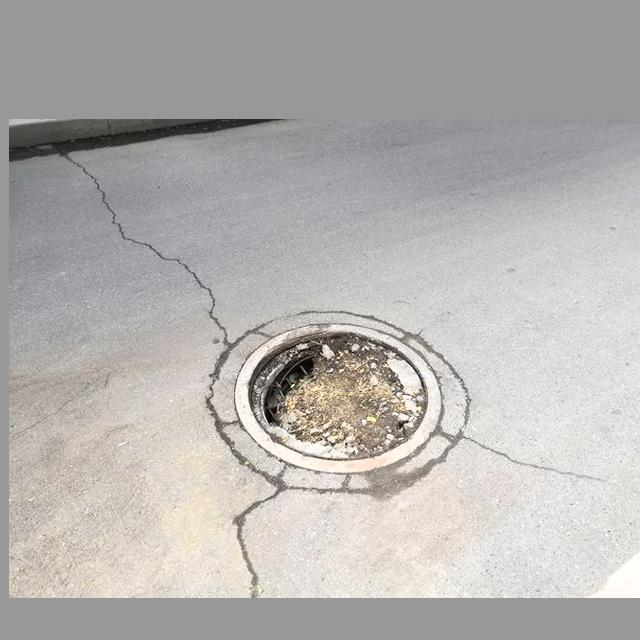broke: (194, 299, 463, 505)
